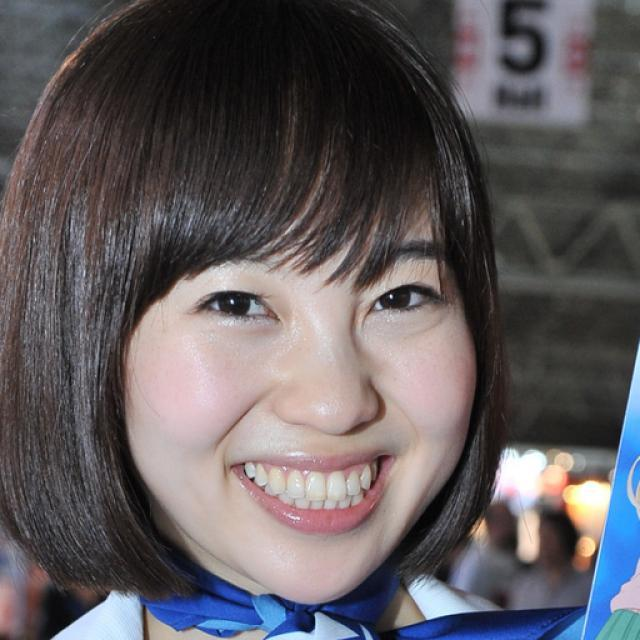happy: (115, 95, 480, 600)
